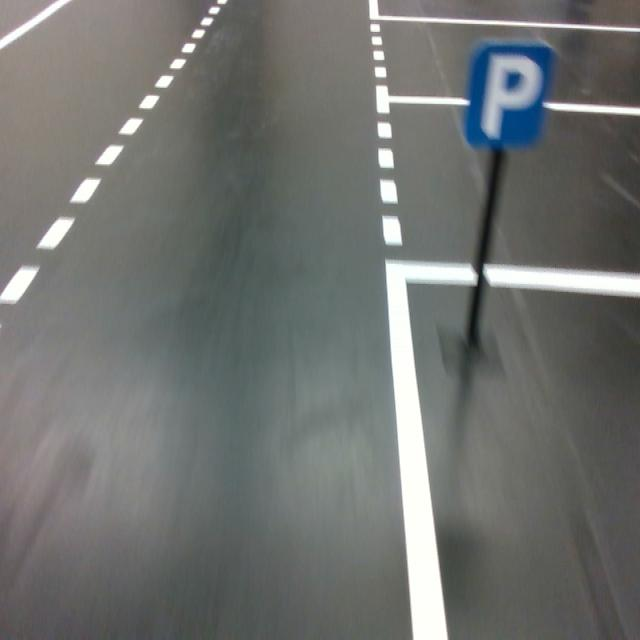parking-sign: (465, 42, 553, 148)
